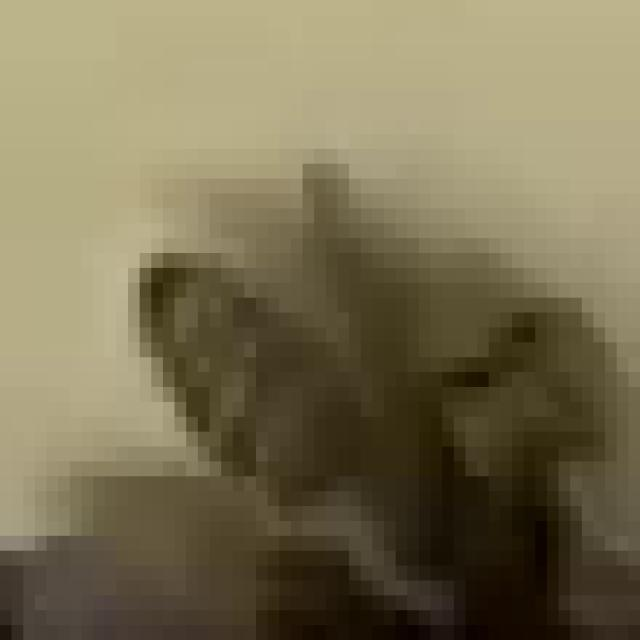honeybee: (124, 182, 632, 640)
